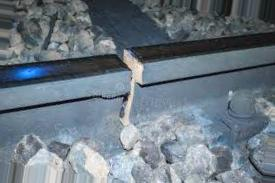tracks_fault: (103, 45, 164, 127)
